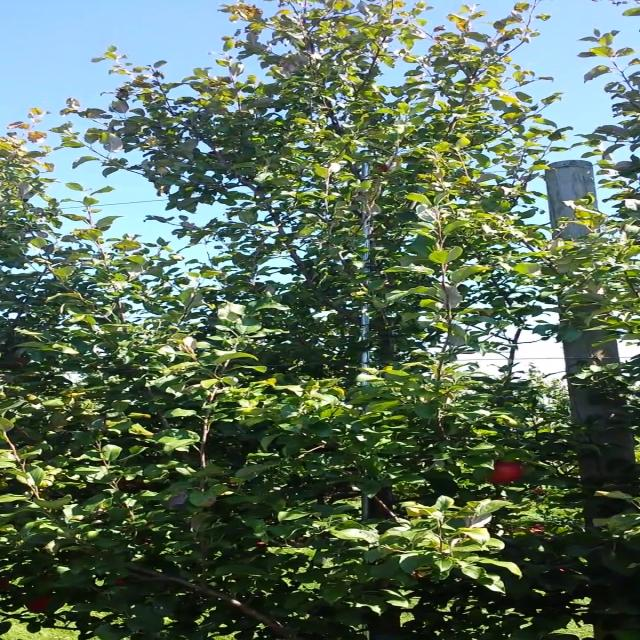apple: (486, 461, 523, 485), (23, 593, 54, 613), (114, 577, 130, 587), (376, 163, 389, 171)
